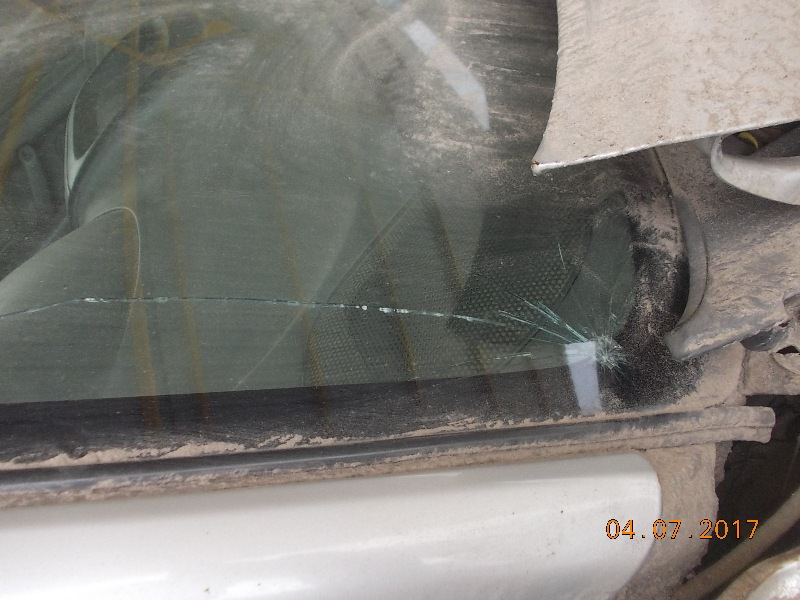Shatter: (485, 311, 624, 382)
